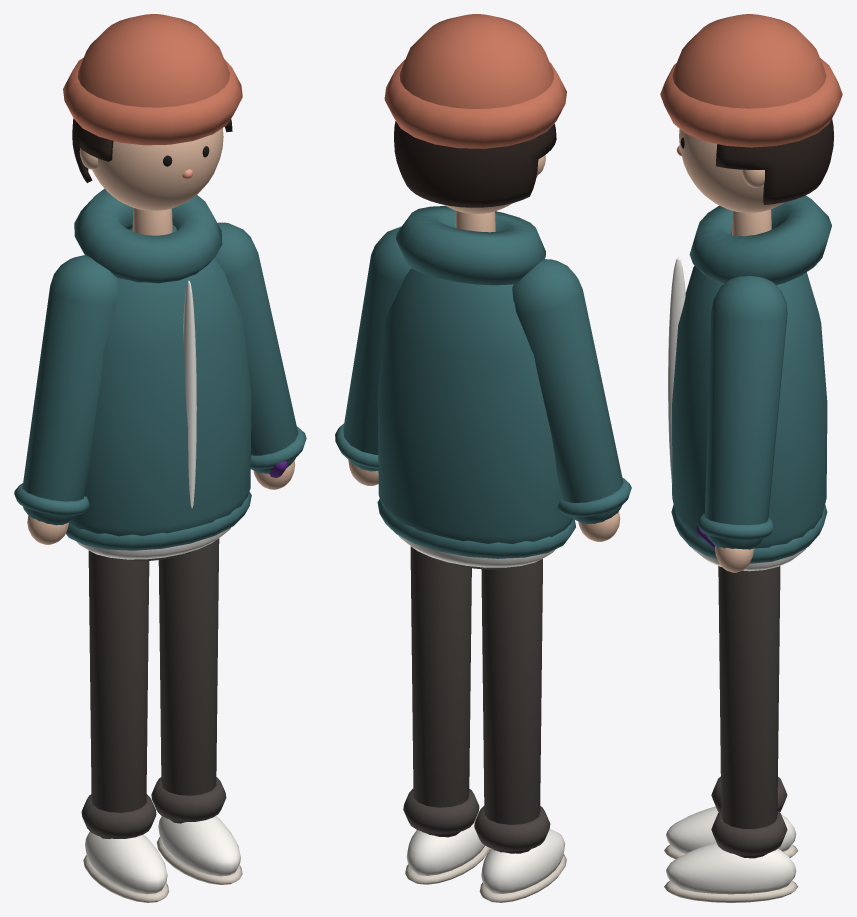
Rendered from Votante_Hombre.fbx.
3 views of the same model, side by side, from view 1: azimuth 30°, elevation 25°; view 2: azimuth 150°, elevation 25°; view 3: azimuth 270°, elevation 25° (orthographic).
Parts seen in each view (by area): view 1: Votante_Hombre; view 2: Votante_Hombre; view 3: Votante_Hombre.
Boxes of the visible parts, bbox=[...] form: Votante_Hombre: bbox=[14, 14, 306, 902]; Votante_Hombre: bbox=[335, 14, 631, 902]; Votante_Hombre: bbox=[660, 14, 842, 902].
Size of the model in its own units: 0.63 by 1.81 by 0.35.
